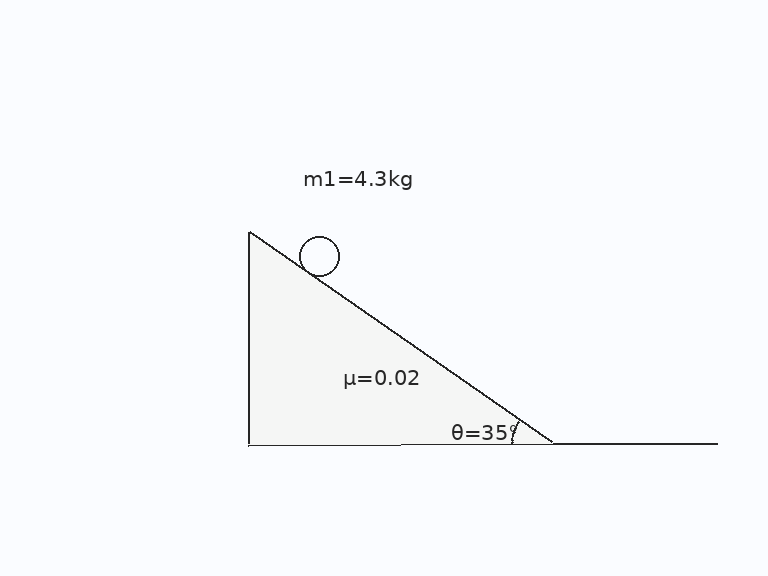ball: (297, 234, 341, 278)
ramp: (247, 230, 554, 446)
